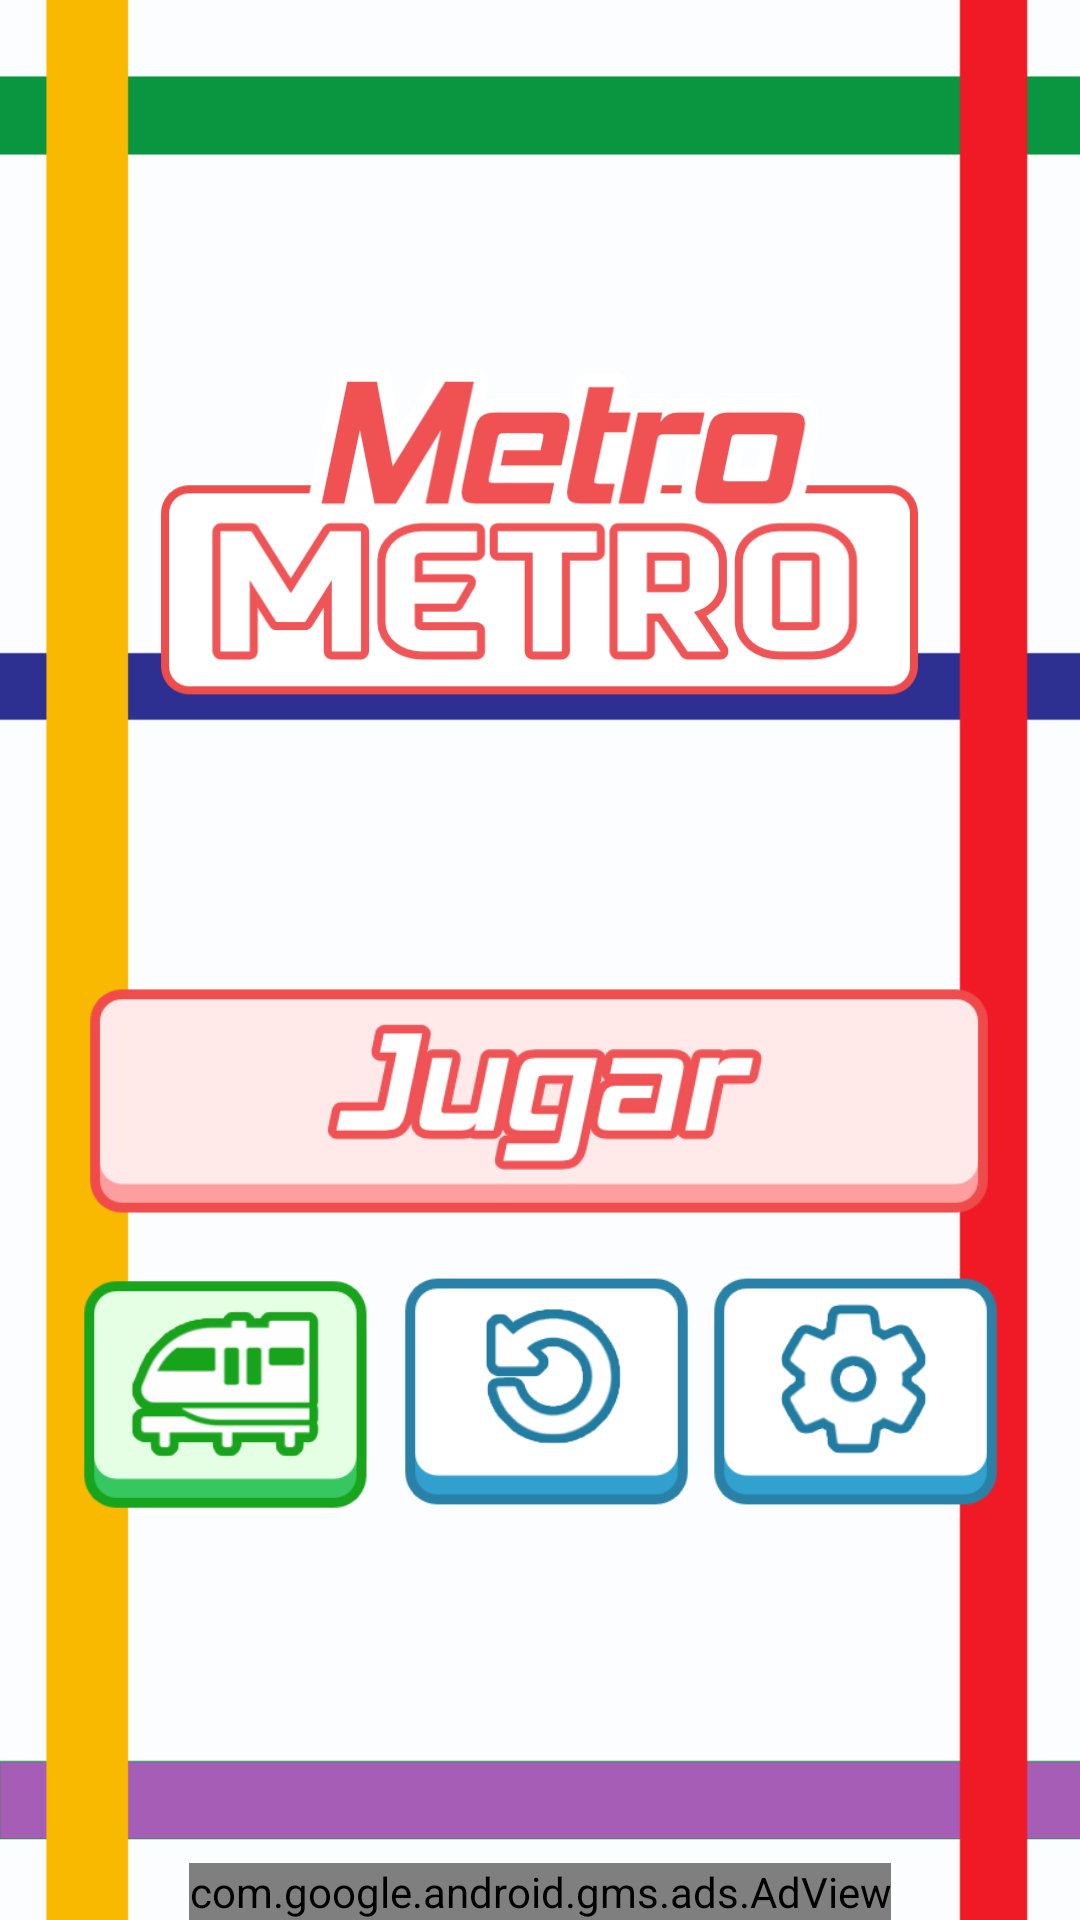

Icon click points for this 1080px x 1920px phone screenshot, format point (x, y):
Boton para resetear el juego: point (546, 1391)
Boton para ver la configuracion del juego: point (856, 1391)
Boton para ver la informacion del Metro: point (225, 1394)
